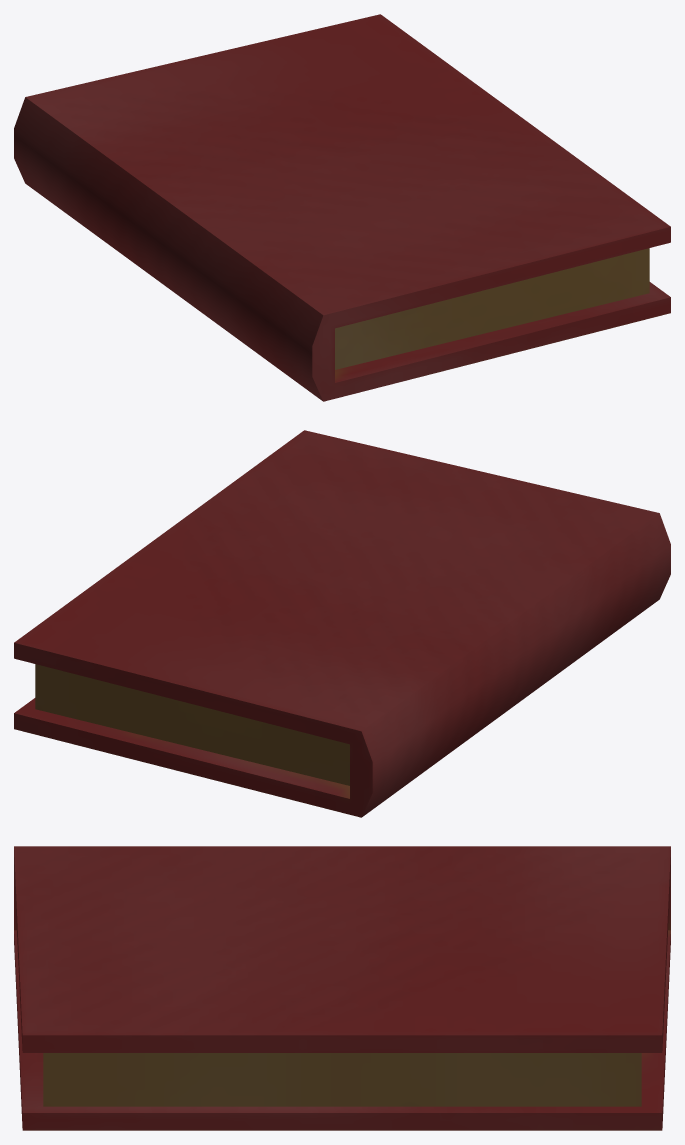
The model's file is RedBook.fbx.
3 renders of one model, top to bottom at view 1: azimuth 30°, elevation 25°; view 2: azimuth 150°, elevation 25°; view 3: azimuth 270°, elevation 25°, orthographic. The views are drawn at different scales.
Parts seen in each view (by area): view 1: RedBook; view 2: RedBook; view 3: RedBook.
Boxes of the visible parts, bbox=[...] form: RedBook: bbox=[14, 14, 670, 401]; RedBook: bbox=[14, 430, 670, 817]; RedBook: bbox=[14, 846, 670, 1130].
Size of the model in its own units: 214 by 48.61 by 304.
1 material, 1 textured.
